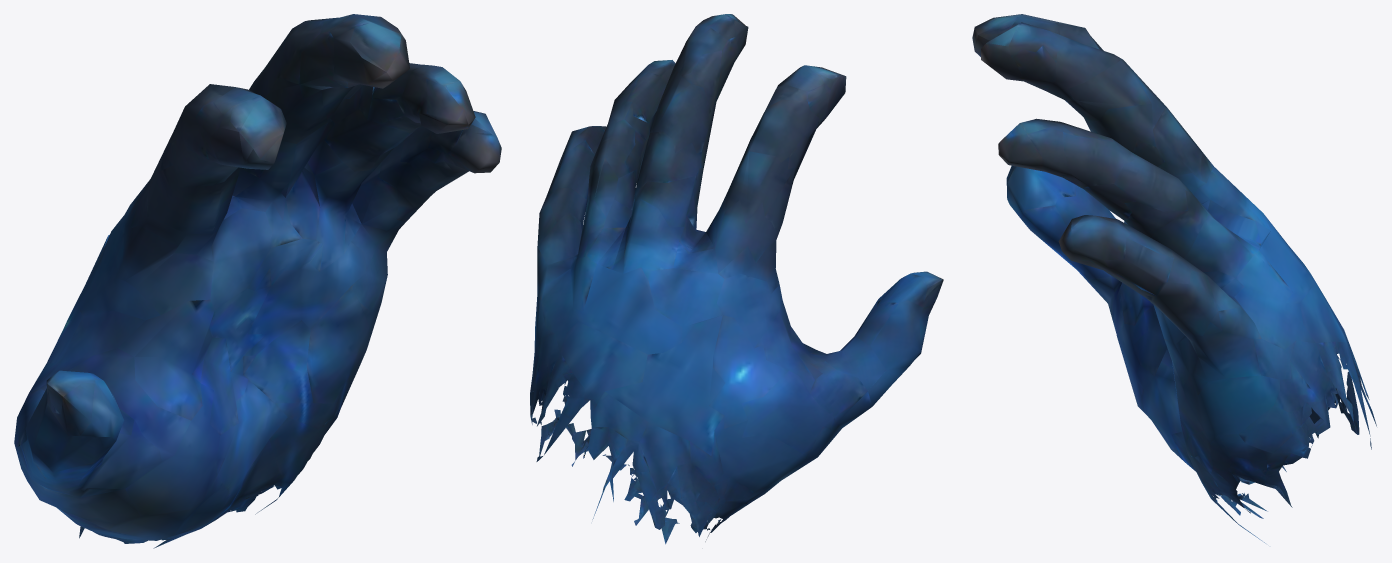
Rendered from monster_7.glb.
3 renders of one model, left to right at view 1: azimuth 30°, elevation 25°; view 2: azimuth 150°, elevation 25°; view 3: azimuth 270°, elevation 25°, orthographic. The views are drawn at different scales.
Visible parts, largest first — view 1: Carnage_hand_0709092549_texture; view 2: Carnage_hand_0709092549_texture; view 3: Carnage_hand_0709092549_texture.
Boxes of the visible parts, left/top/right/bottom form: Carnage_hand_0709092549_texture: left=14, top=14, right=501, bottom=548; Carnage_hand_0709092549_texture: left=530, top=14, right=943, bottom=544; Carnage_hand_0709092549_texture: left=972, top=14, right=1376, bottom=543.
Bounding box in the file's own units: 1.49 × 1.82 × 1.3.
1 material, 1 textured.
